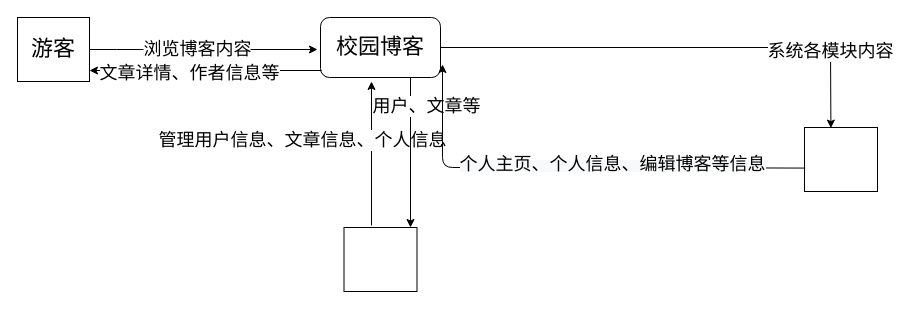
This 911x309 diagram has some shape labels left out. The centre of each missing label's shape, as x and y in pixels:
"用户" belongs at [841,159].
"管理员" belongs at [380,259].
